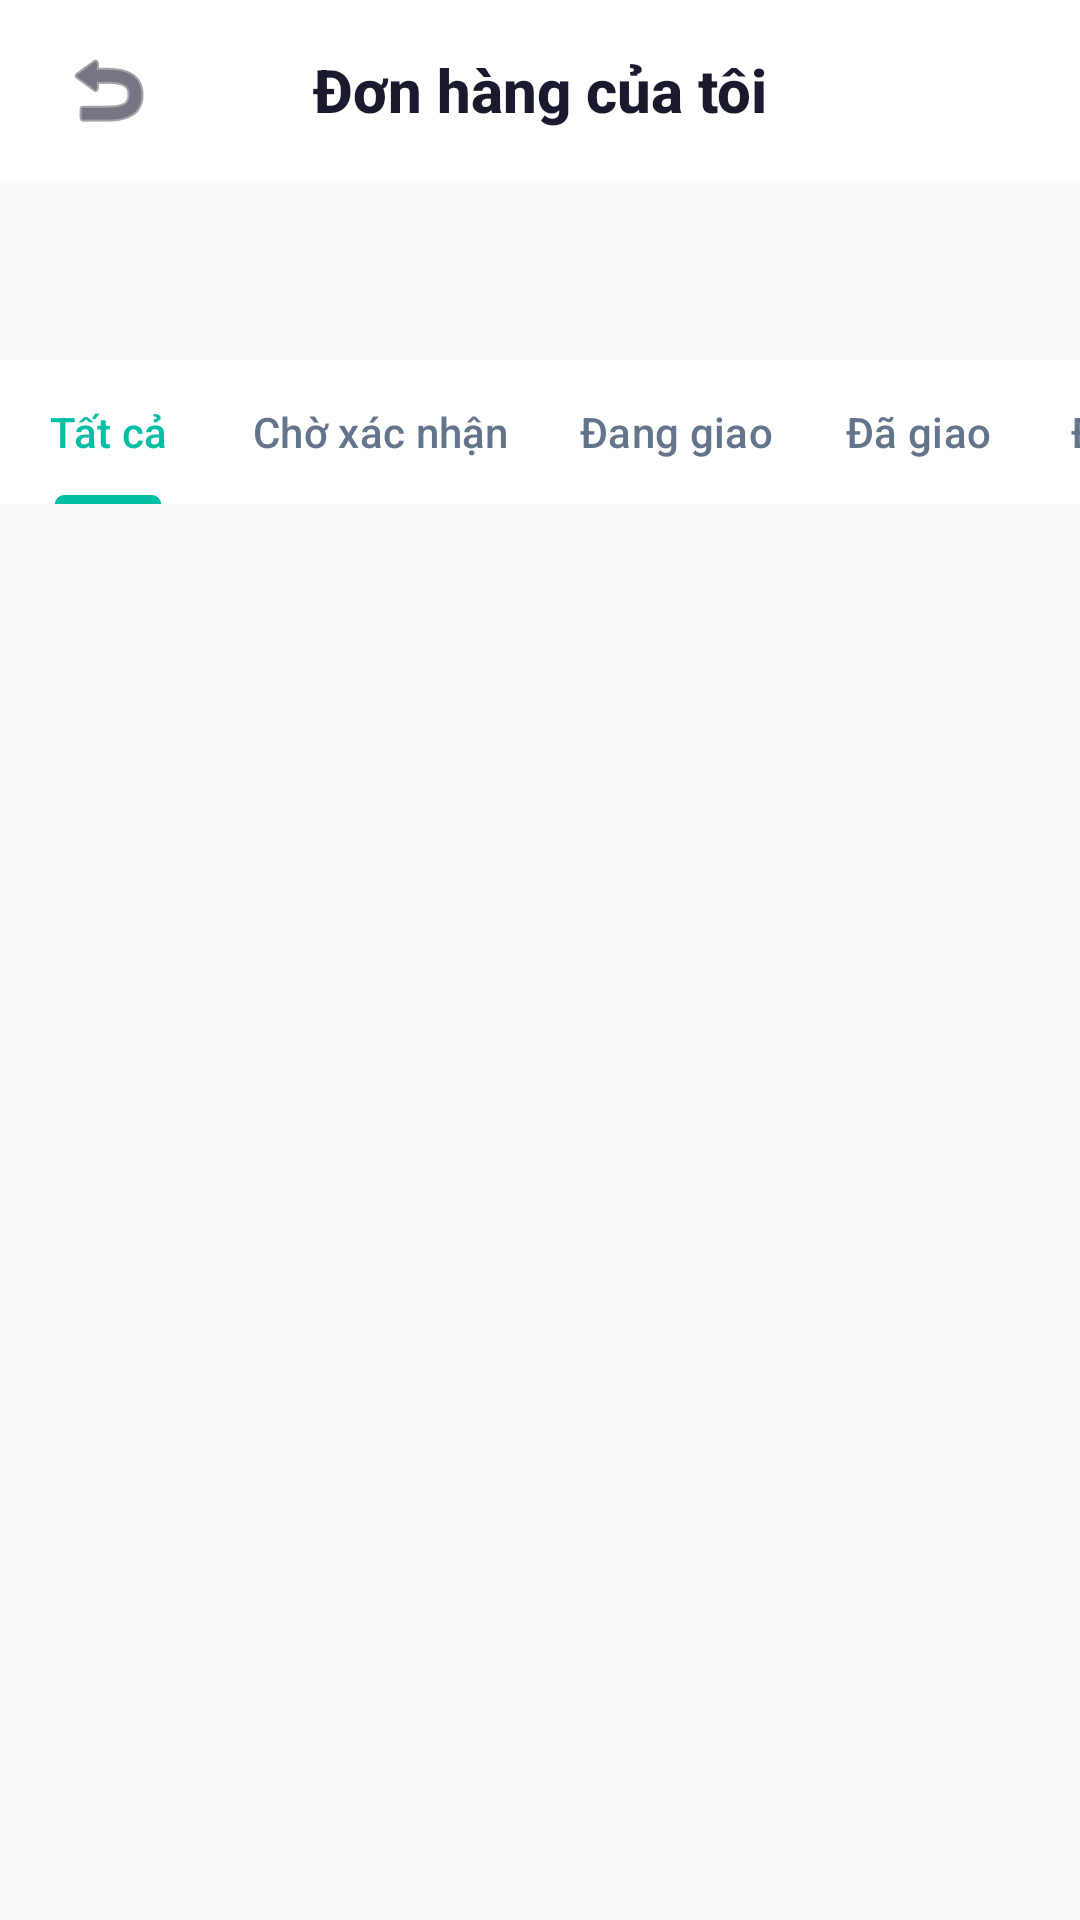

Where icons sit on this 1080px×1920px app screen, as (x1, y1, x2, y2):
Back: (75, 59, 144, 122)
